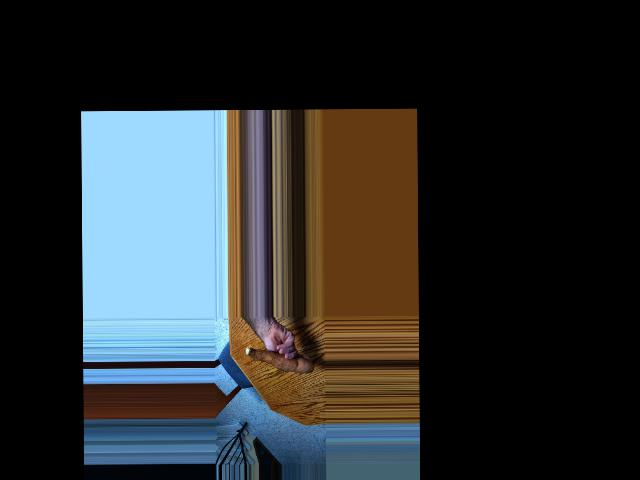sweet_potato: (243, 344, 312, 376)
